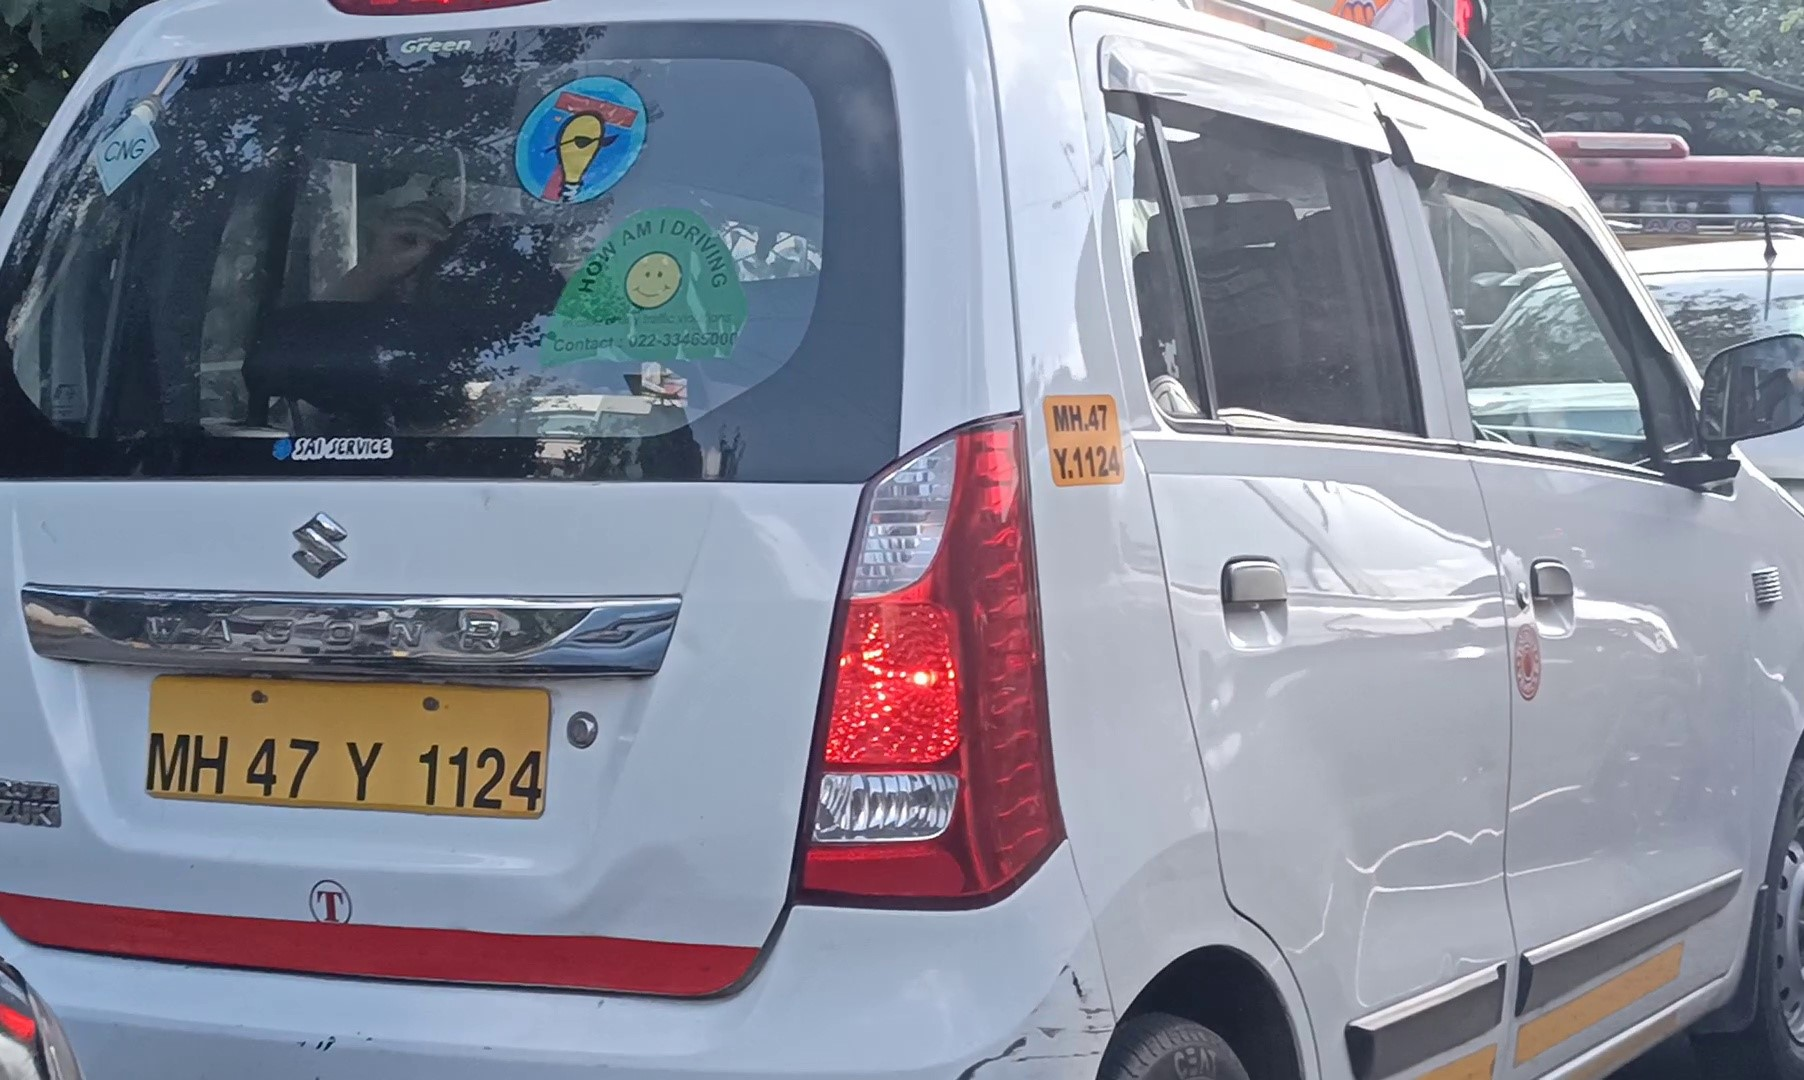MH47Y1124: (144, 676, 551, 817)
